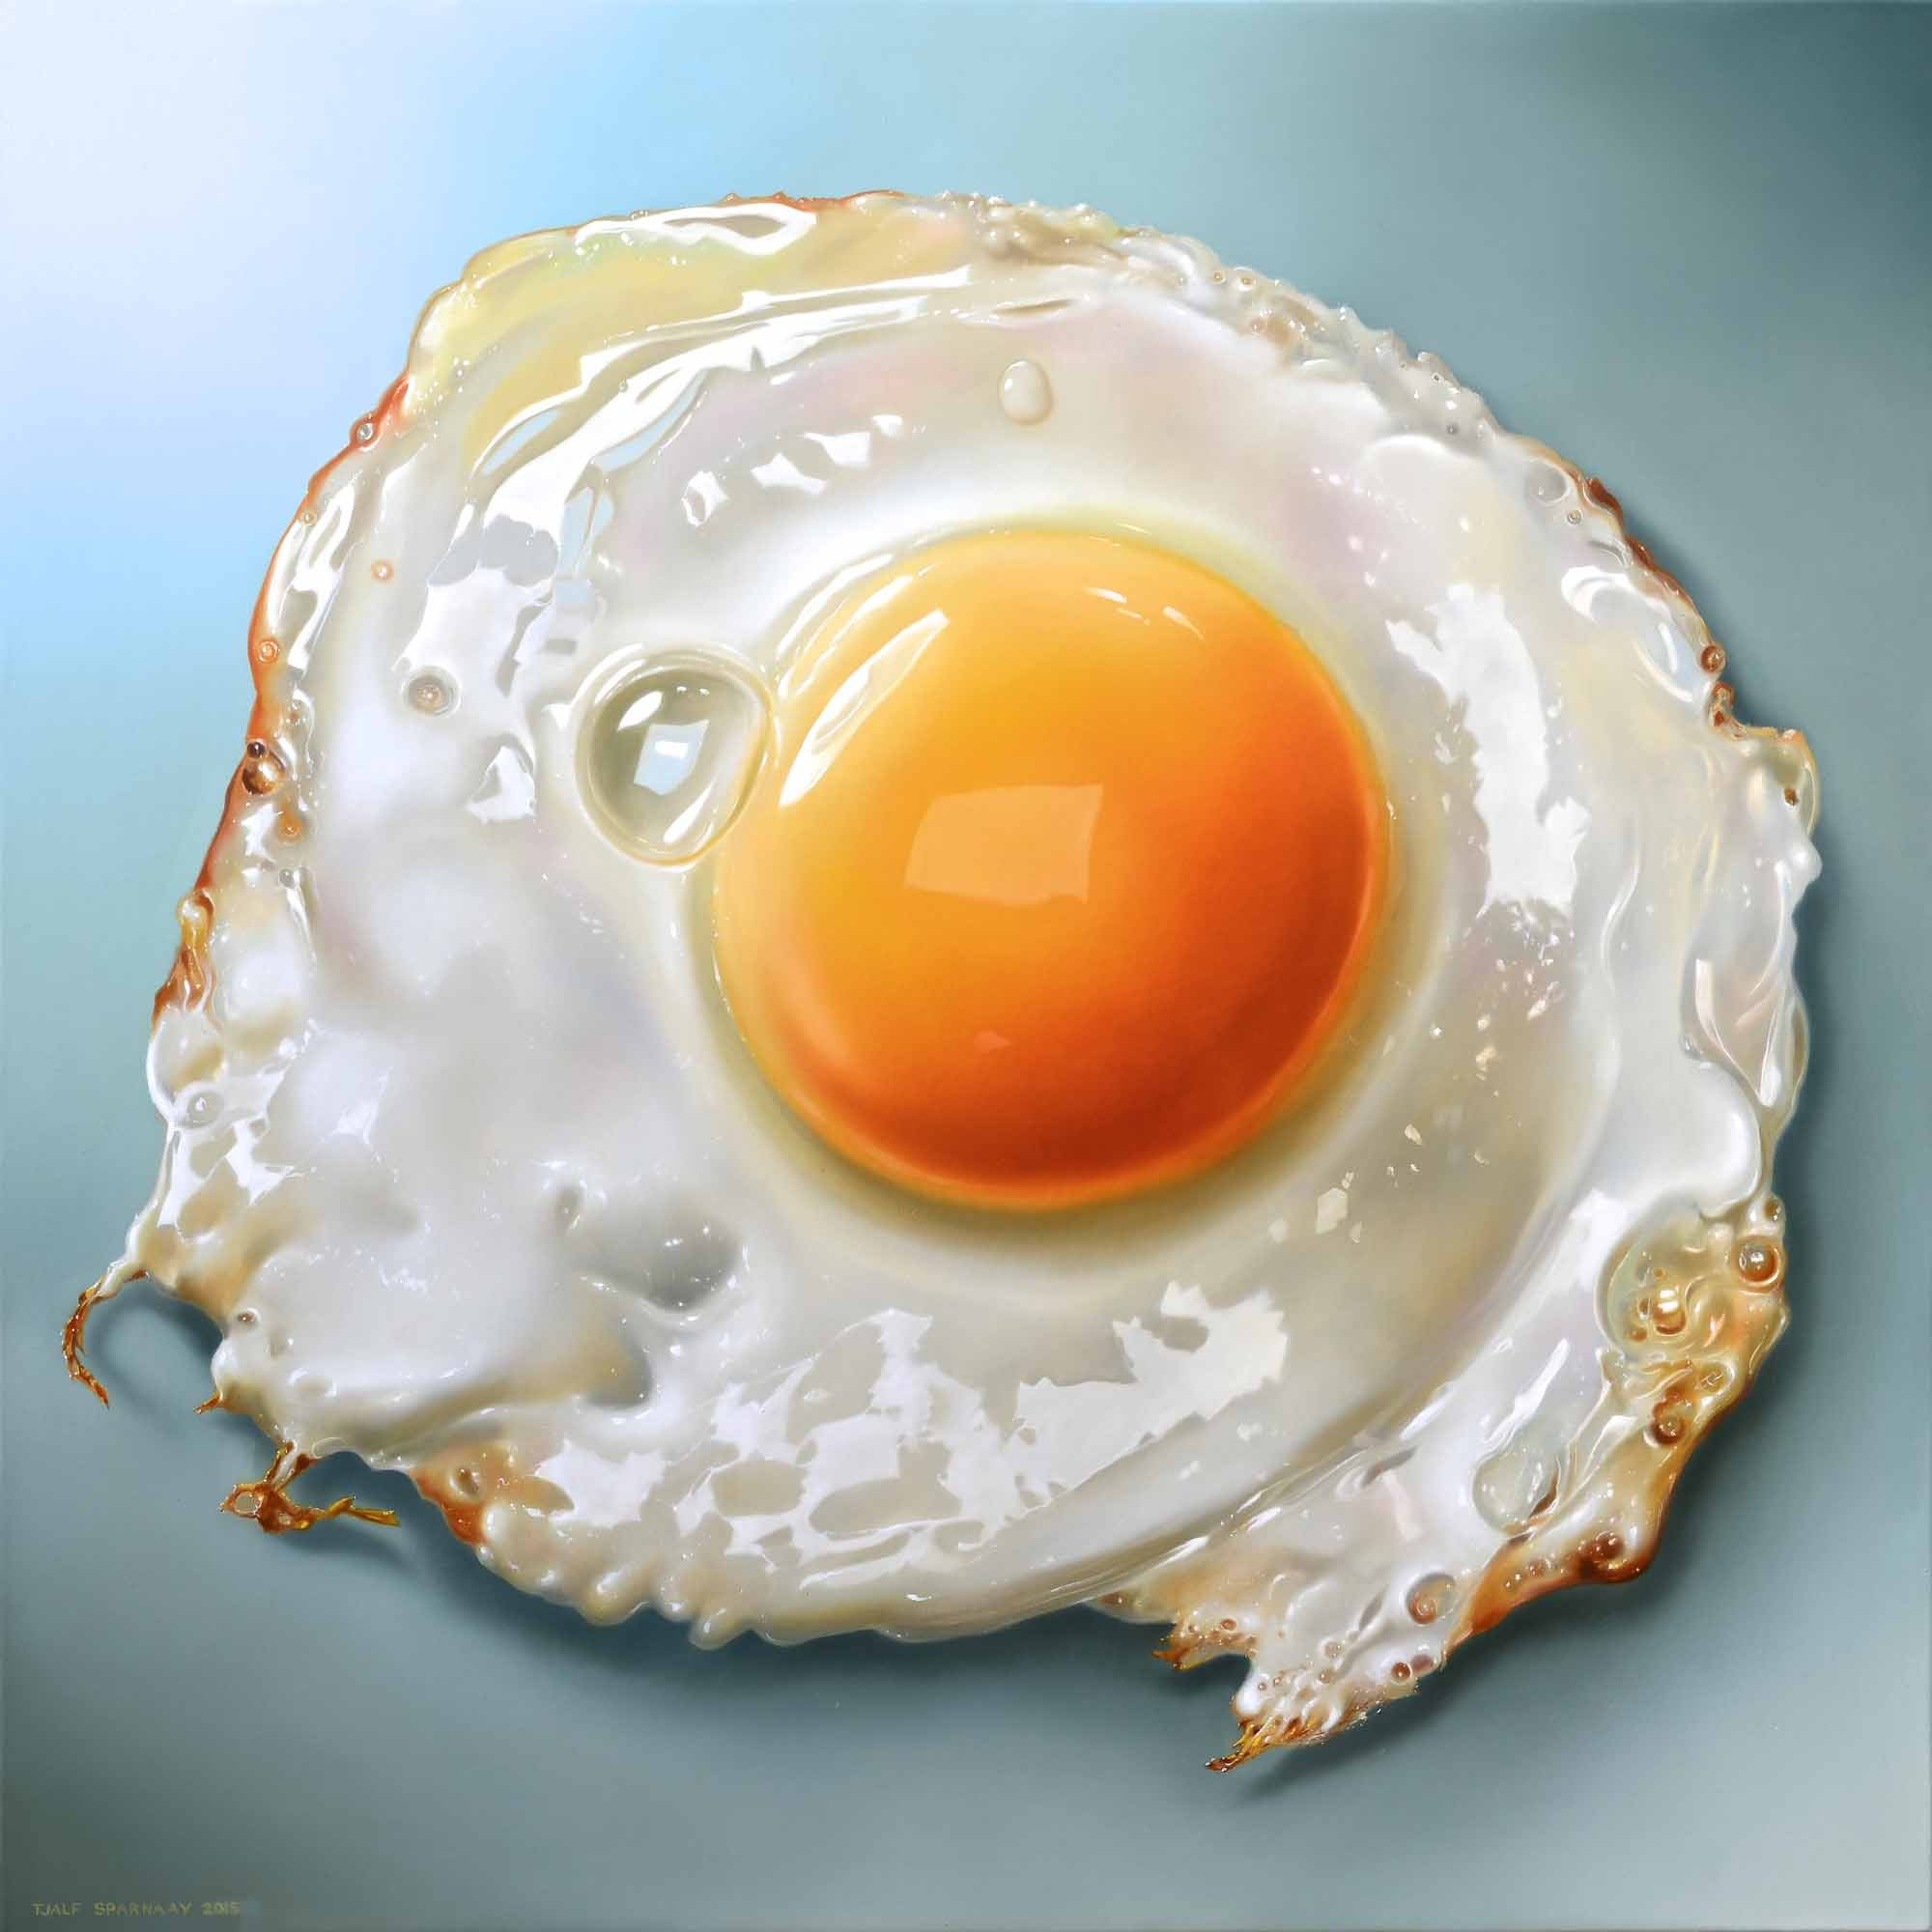fried egg: (221, 242, 1707, 1695)
